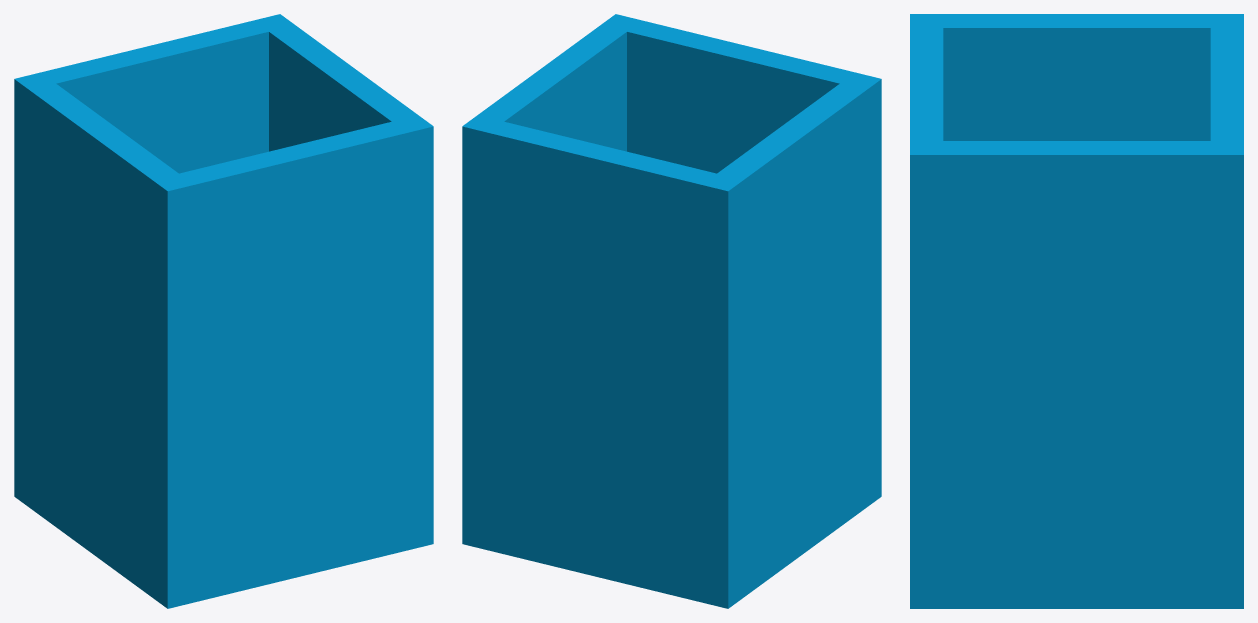
3 renders of one model, left to right at view 1: azimuth 30°, elevation 25°; view 2: azimuth 150°, elevation 25°; view 3: azimuth 270°, elevation 25°, orthographic. The views are drawn at different scales.
Parts seen in each view (by area): view 1: takai; view 2: takai; view 3: takai.
Boxes of the visible parts, x1,y1,x2,y2 form: takai: (14,14,433,608); takai: (462,14,881,608); takai: (910,14,1243,608).
Size of the model in its own units: 20 by 30 by 20.
